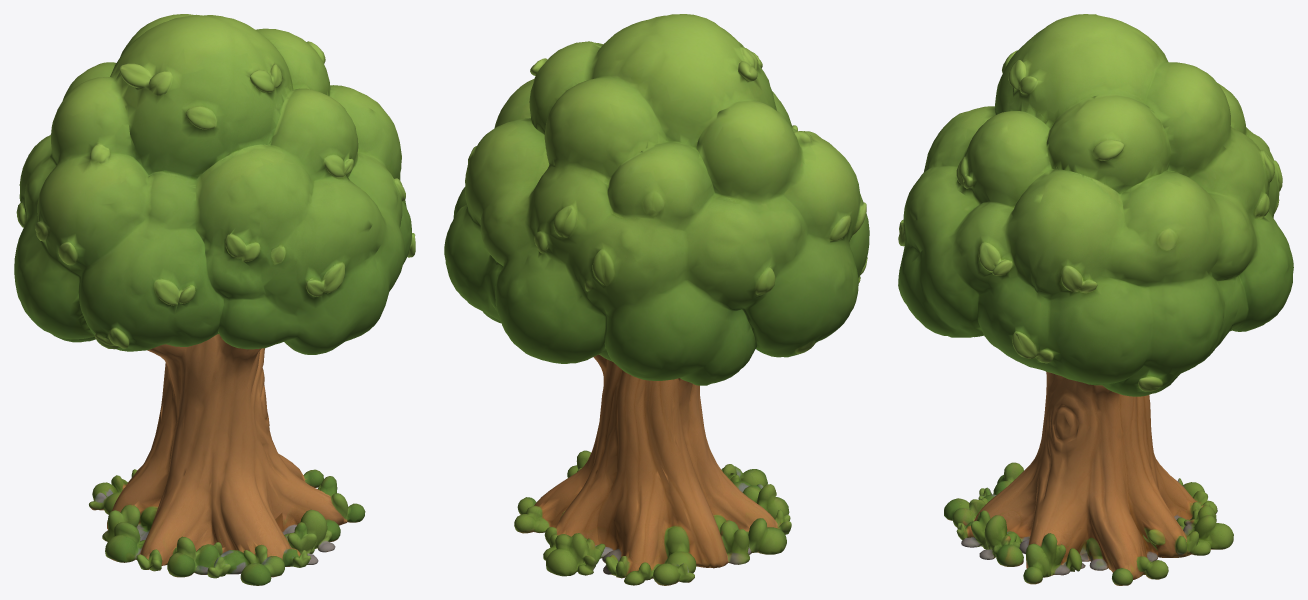
File: TREE.fbx
3 renders of one model, left to right at view 1: azimuth 30°, elevation 25°; view 2: azimuth 150°, elevation 25°; view 3: azimuth 270°, elevation 25°, orthographic. The views are drawn at different scales.
Visible parts, largest first — view 1: mesh_node; view 2: mesh_node; view 3: mesh_node.
Boxes of the visible parts, x1,y1,x2,y2 form: mesh_node: (14, 14, 415, 585); mesh_node: (444, 14, 869, 585); mesh_node: (898, 14, 1293, 585).
Bounding box in the file's own units: 148 × 190 × 137.
Materials: 1 (1 with a texture image).
